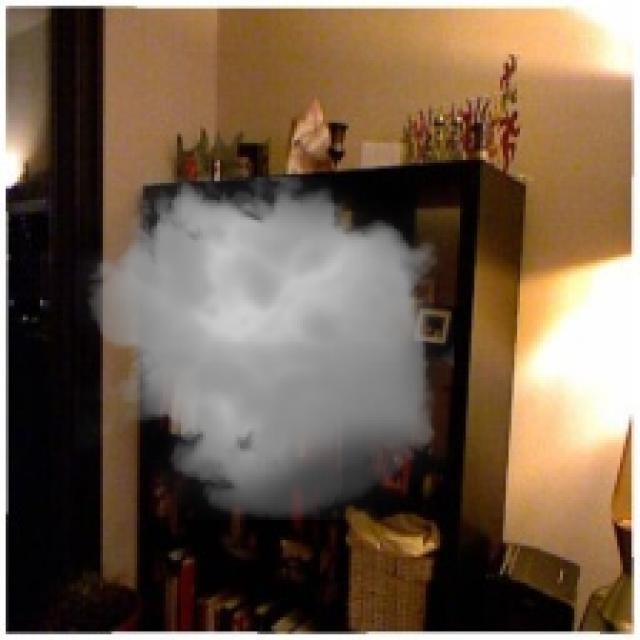smoke: (74, 160, 454, 531)
